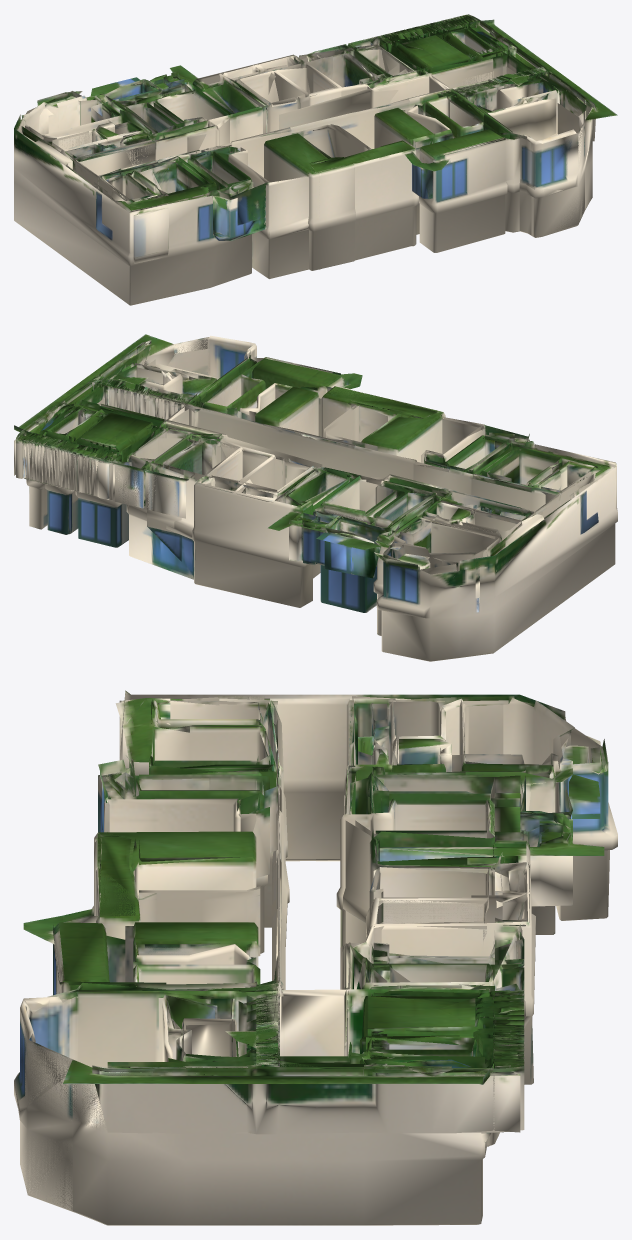
The model's file is bld_557132861.glb.
3 views of the same model, one above another, from view 1: azimuth 30°, elevation 25°; view 2: azimuth 150°, elevation 25°; view 3: azimuth 270°, elevation 25° (orthographic). The views are drawn at different scales.
Bounding box in the file's own units: 1.84 × 0.364 × 1.21.
Materials: 1 (1 with a texture image).
